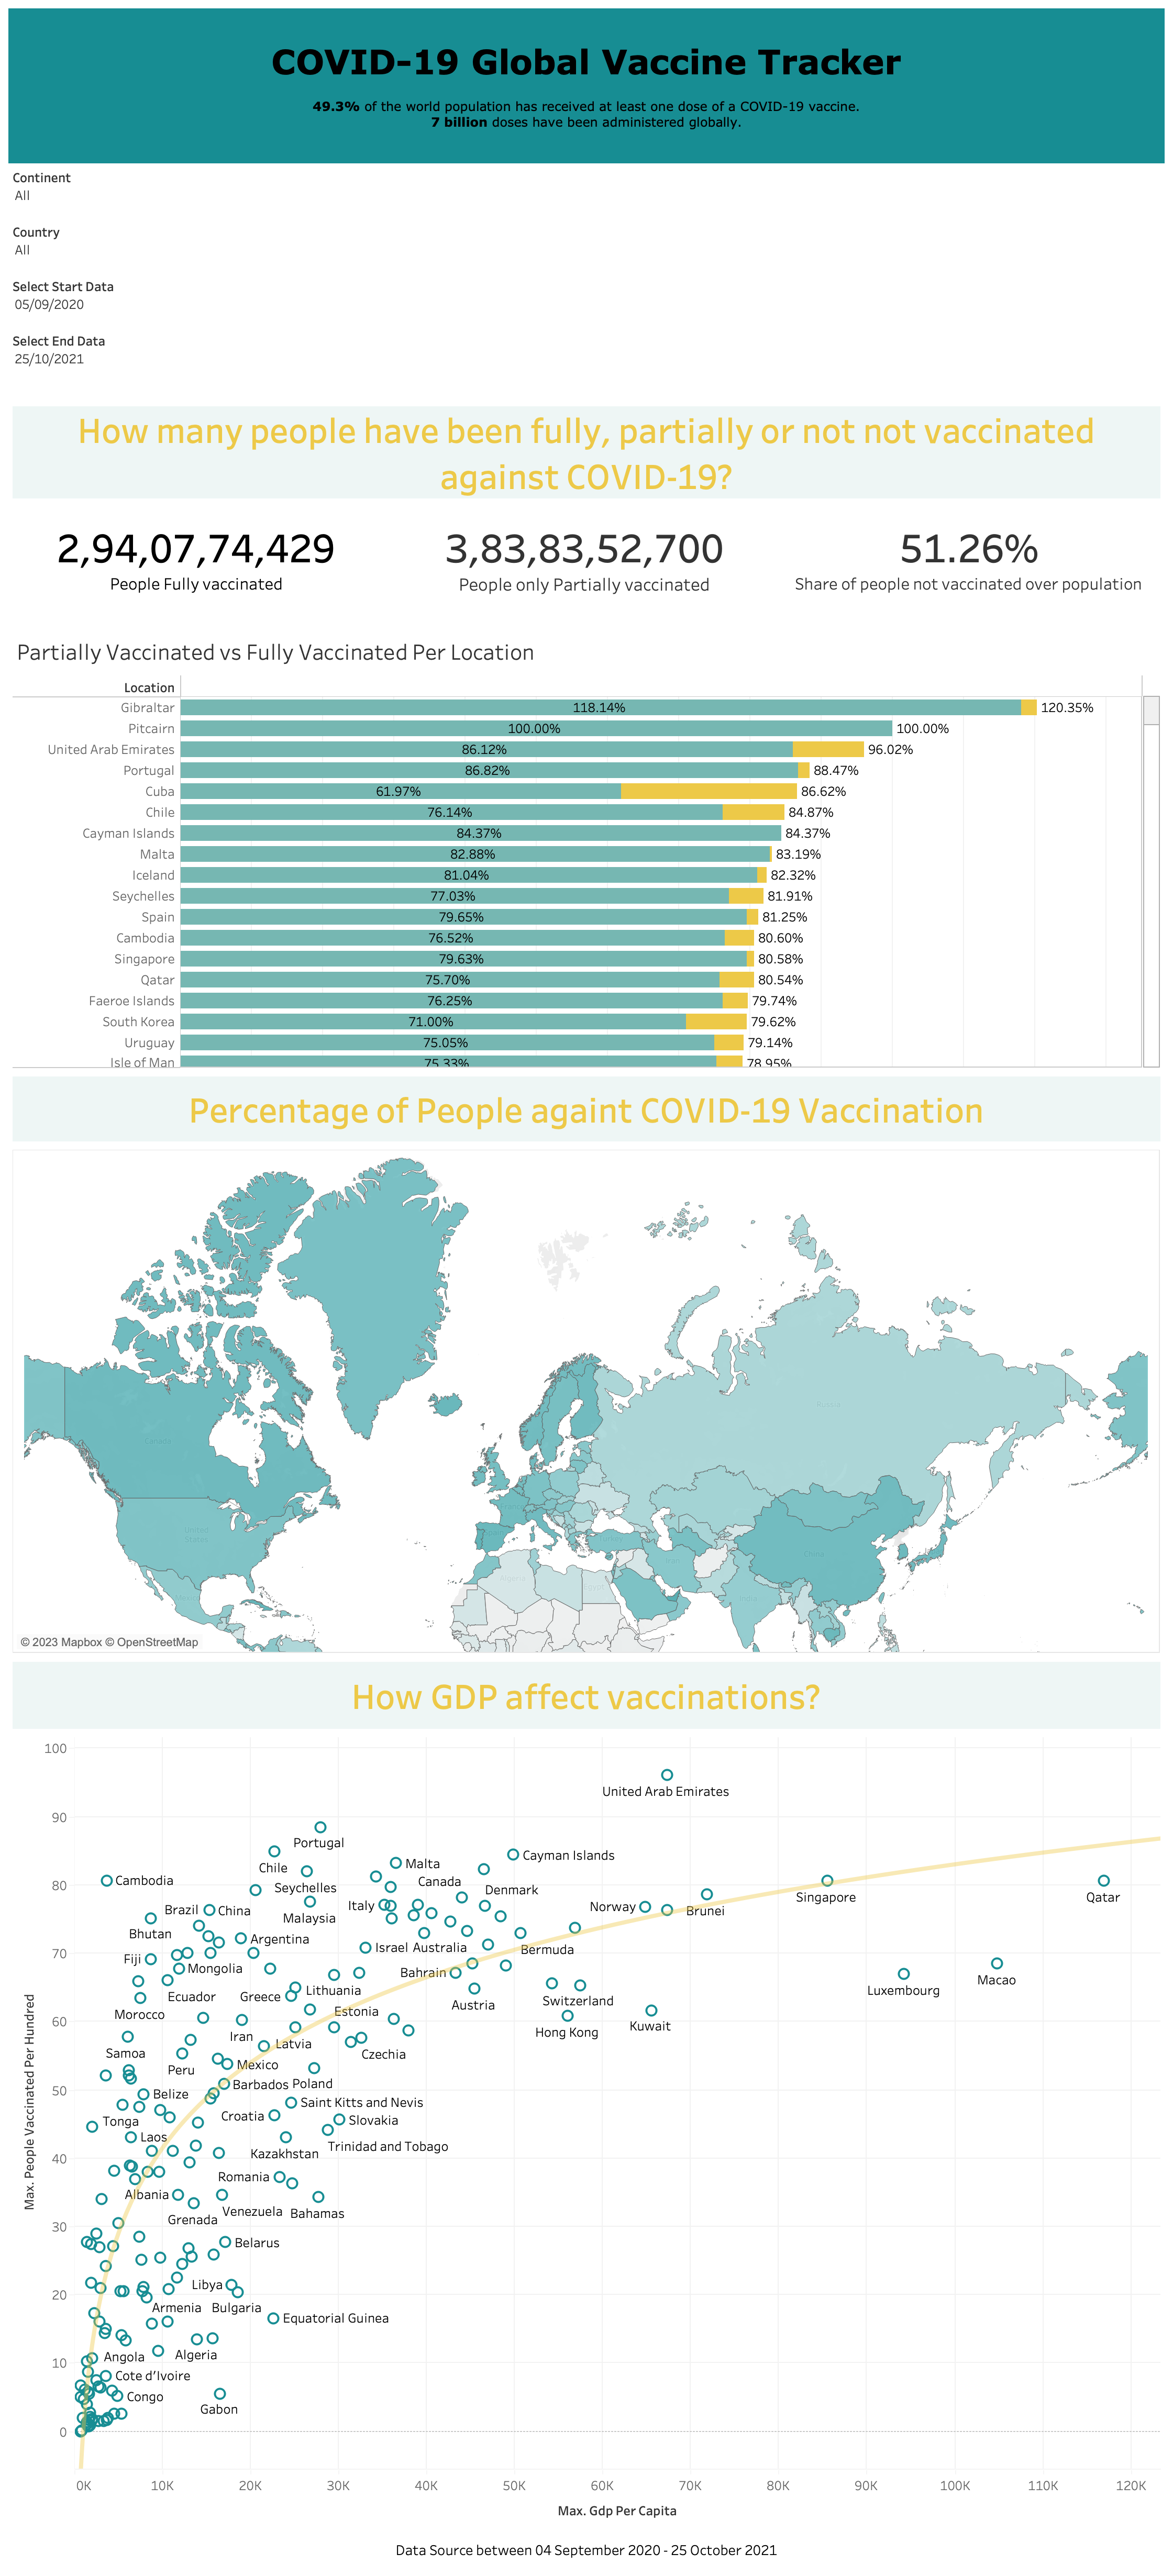

What the dashboard file says about the page in this screenshot:
{"tool":"tableau","page":{"name":"Global COVID-19 Vaccine Tracker","canvas":[1120,2460],"ordinal":0},"visuals":[{"type":"text","box":[8,8,1104,148]},{"type":"filter","title":"KPI 1 - People Partially vaccinated","param":"[federated.1bnxjkp0860i2f1b5pxcm1so07qf].[none:Continent:nk]","box":[8,156,1104,52]},{"type":"filter","title":"KPI 1 - People Partially vaccinated","param":"[federated.1bnxjkp0860i2f1b5pxcm1so07qf].[none:Location (copy):nk]","box":[8,208,1104,52]},{"type":"parameter","param":"[Parameters].[Parameter 1]","box":[8,260,1104,52]},{"type":"parameter","param":"[Parameters].[Select Start Data (copy)_350154932456509445]","box":[8,312,1104,52]},{"type":"text","box":[8,384.1,1104,96]},{"type":"worksheet","title":"KPI 2 - People Fully vaccinated","mark":"Automatic","box":[8,493,368,105]},{"type":"worksheet","title":"KPI 1 - People Partially vaccinated","mark":"Automatic","box":[376,493,368,105]},{"type":"worksheet","title":"KPI 3 - Share Of People Not vaccinated Over Population","mark":"Automatic","box":[744,493,368,105]},{"type":"worksheet","title":"Partially Vaccinated vs Fully Vaccinated Per Location","mark":"Bar","rows":["Location"],"cols":["Calculation_350154932442595328","Share of people partially vaccinated over Population (copy)_"],"box":[8,597.6,1104,426.2]},{"type":"text","box":[8,1023.8,1104,70.2]},{"type":"worksheet","title":"Vaccinated per Hundred - Map","mark":"Automatic","box":[8,1094,1104,489.4]},{"type":"text","box":[8,1583.4,1104,71.6]},{"type":"worksheet","title":"Vaccinated Over GDP","mark":"Automatic","rows":["People Vaccinated Per Hundred"],"cols":["Gdp Per Capita"],"box":[8,1655,1104,762]},{"type":"text","box":[8,2417,1104,35]}]}

Visuals, with their boxes in screenshot pixels (x1, y1, x2, y2), scaled from the page's 1120x2460 canvas onto the 1173x2576 screenshot:
text: [8,8,1165,163]
"KPI 1 - People Partially vaccinated" filter: [8,163,1165,218]
"KPI 1 - People Partially vaccinated" filter: [8,218,1165,272]
parameter: [8,272,1165,327]
parameter: [8,327,1165,381]
text: [8,402,1165,503]
"KPI 2 - People Fully vaccinated" worksheet: [8,516,394,626]
"KPI 1 - People Partially vaccinated" worksheet: [394,516,779,626]
"KPI 3 - Share Of People Not vaccinated Over Population" worksheet: [779,516,1165,626]
"Partially Vaccinated vs Fully Vaccinated Per Location" worksheet (Bar marks): [8,626,1165,1072]
text: [8,1072,1165,1146]
"Vaccinated per Hundred - Map" worksheet: [8,1146,1165,1658]
text: [8,1658,1165,1733]
"Vaccinated Over GDP" worksheet: [8,1733,1165,2531]
text: [8,2531,1165,2568]
